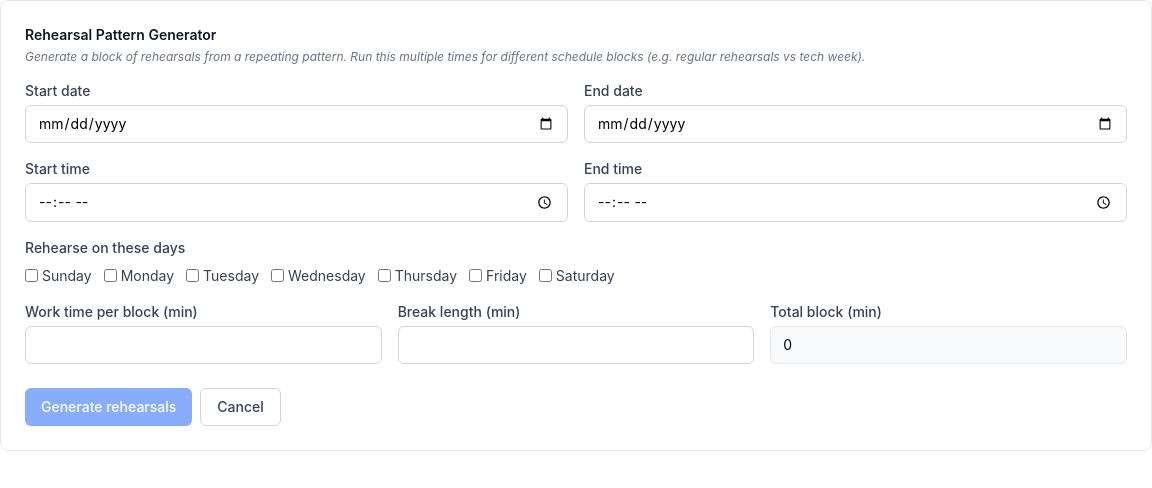
Test: RehearsalPatternCreator › disables the submit button when end time is before start time
Type "2026-08-01" into the date field below "Start date" at point(296, 124), box [25,105,568,143]
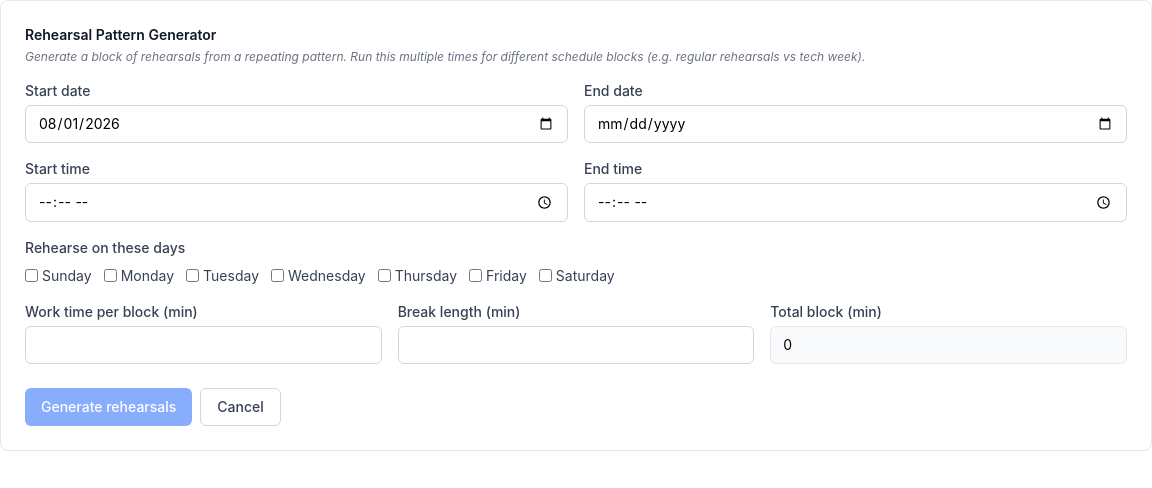
Type "2026-12-31" into the date field below "End date" at point(856, 124), box [584,105,1127,143]
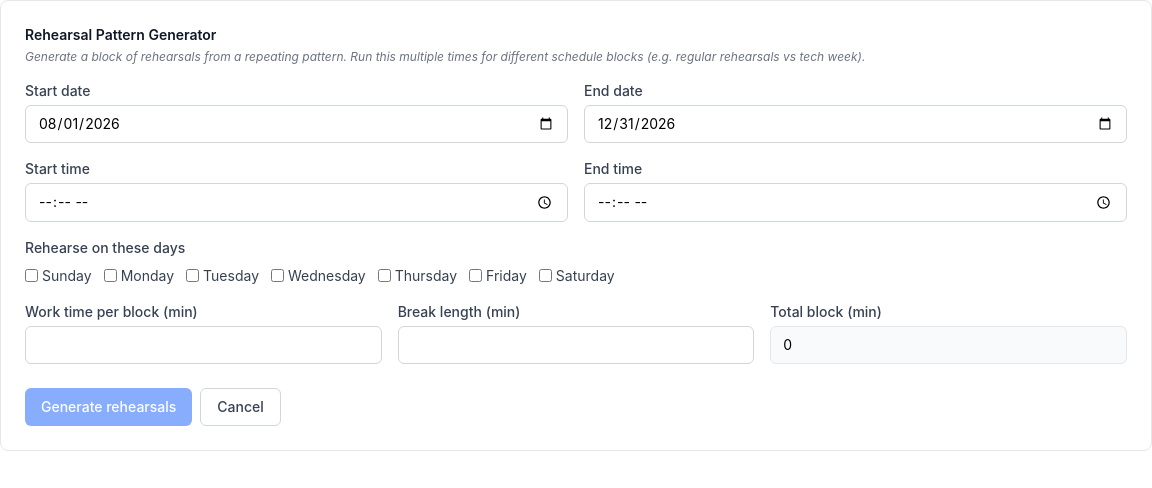
Click the checkbox labelled "monday" at point(110, 276), box [104,269,117,282]
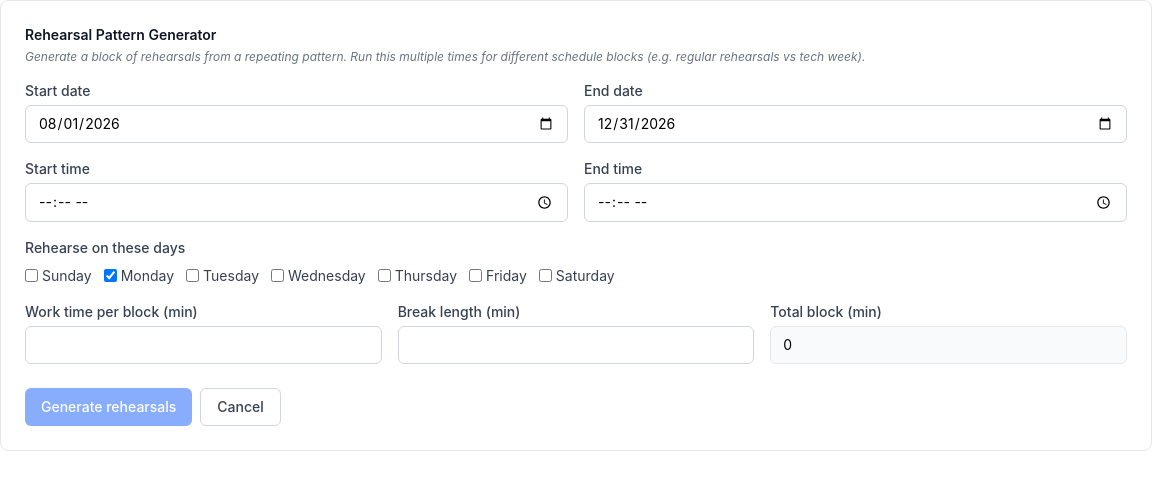
Type "19:00" into the time field below "Start time" at point(296, 202), box [25,183,568,222]
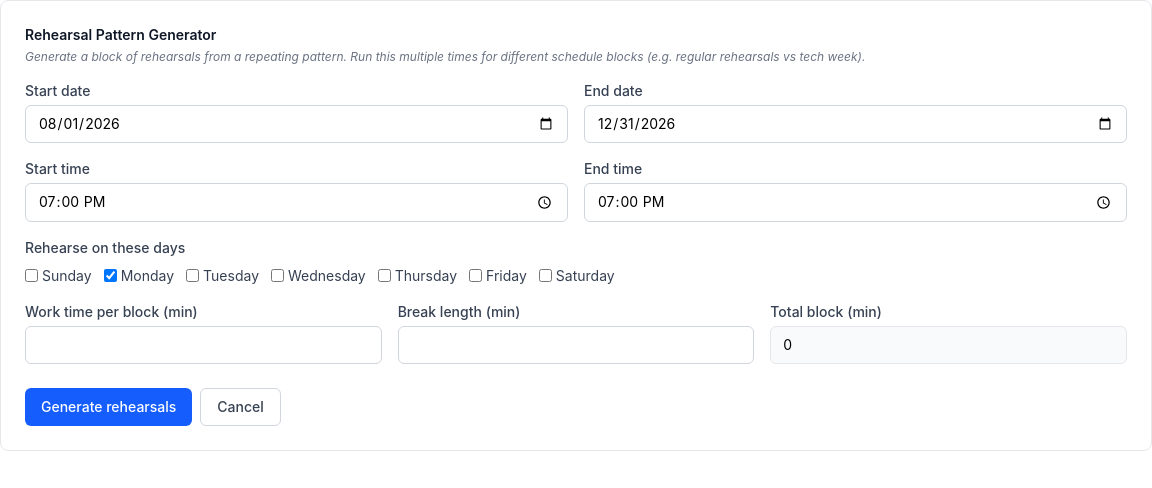
Replace the text in the time field below "End time" with "18:00" at point(856, 202), box [584,183,1127,222]
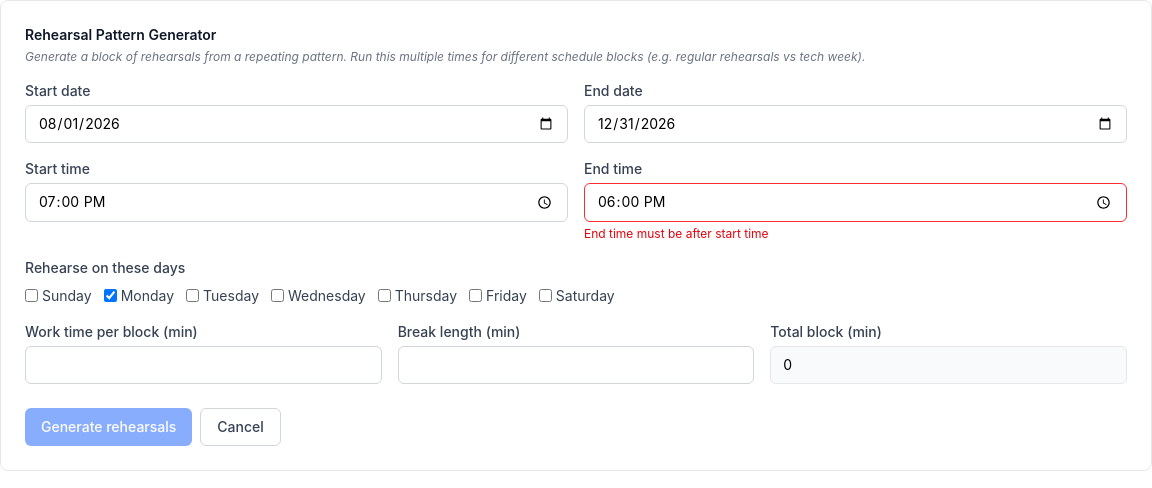
Expected: the button "Generate rehearsals" is disabled, [25,408,192,446]
